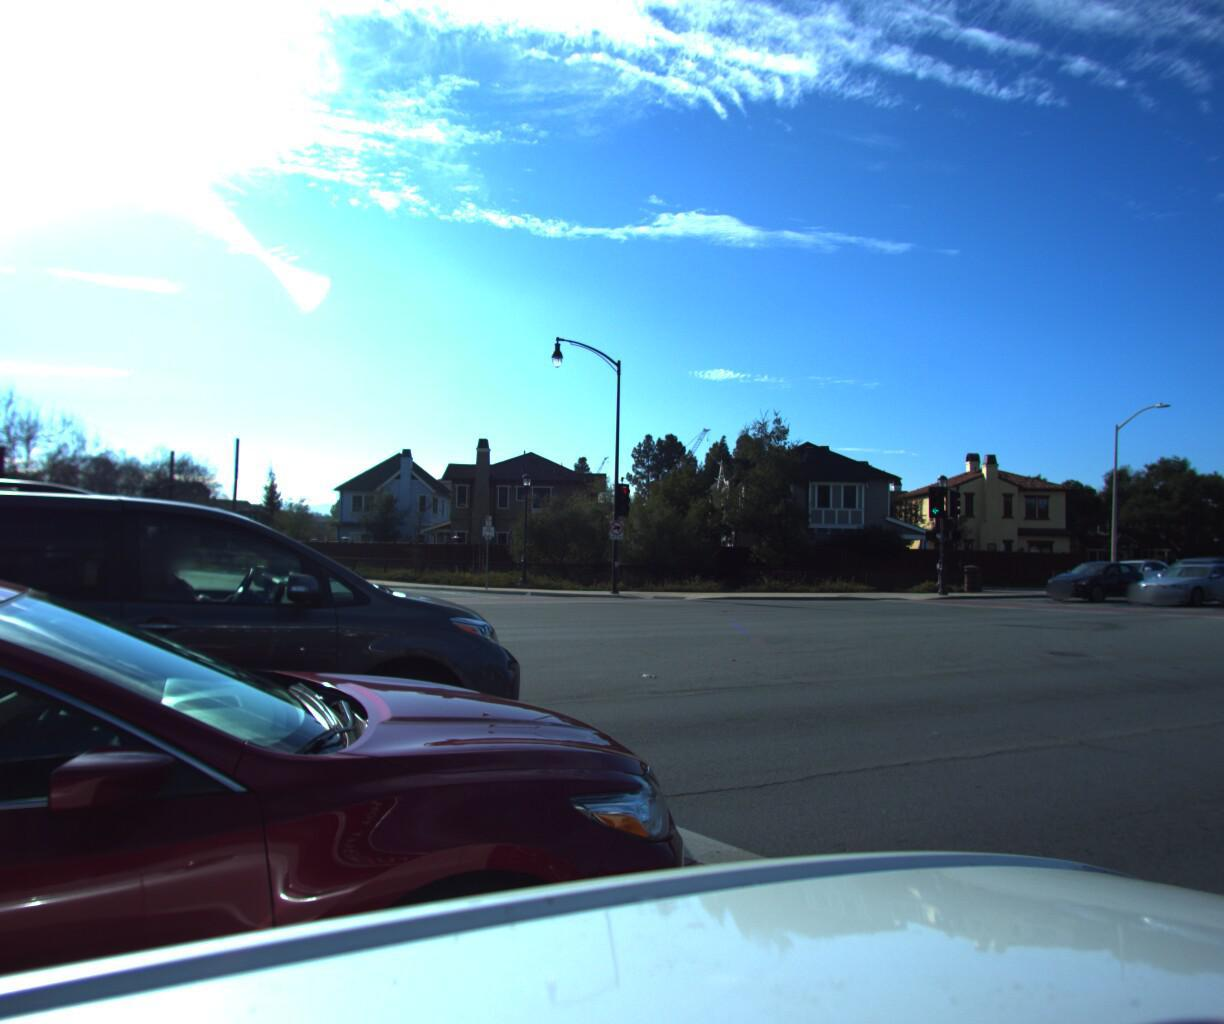car: (0, 425, 764, 1024), (0, 444, 545, 923), (1033, 555, 1152, 600), (1118, 555, 1224, 604), (1076, 551, 1180, 595), (1134, 549, 1224, 597), (1199, 552, 1224, 615)
